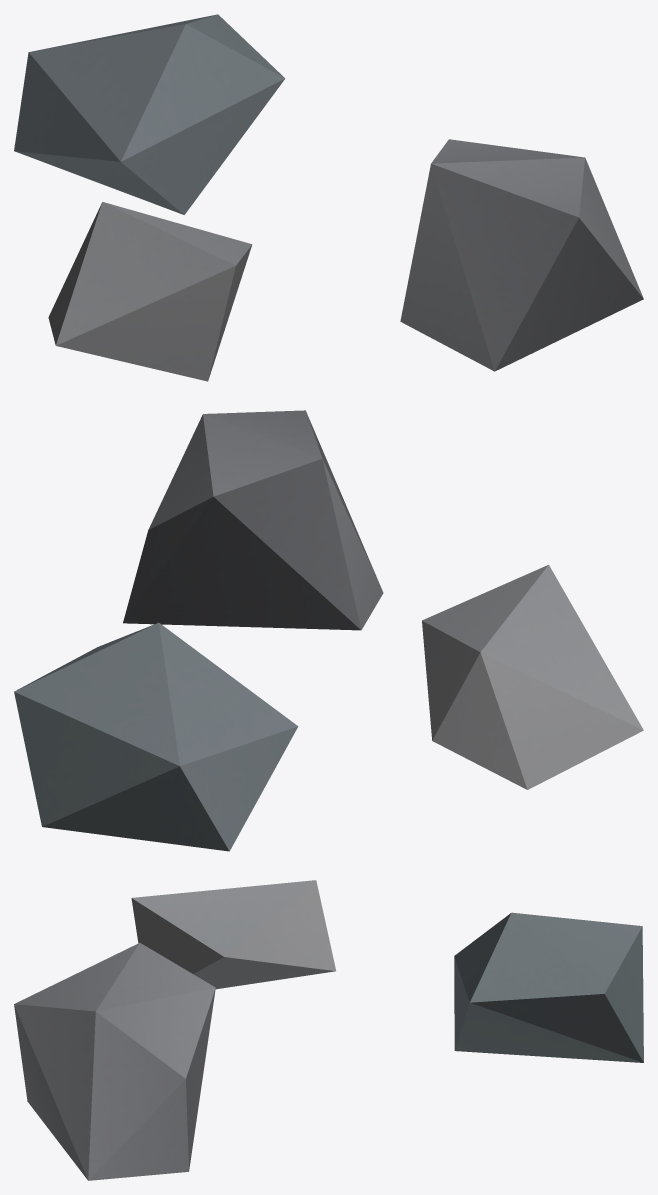
File: Rock_V_Sm_Combine_1.fbx
3 views of the same model, one above another, from view 1: azimuth 30°, elevation 25°; view 2: azimuth 150°, elevation 25°; view 3: azimuth 270°, elevation 25° (orthographic). The views are drawn at different scales.
Visible parts, largest first — view 1: polySurface140; view 2: polySurface140; view 3: polySurface140.
Boxes of the visible parts, x1,y1,x2,y2 form: polySurface140: [14, 14, 643, 381]; polySurface140: [14, 410, 643, 851]; polySurface140: [14, 880, 643, 1180].
Size of the model in its own units: 50.1 by 16.18 by 55.71.
